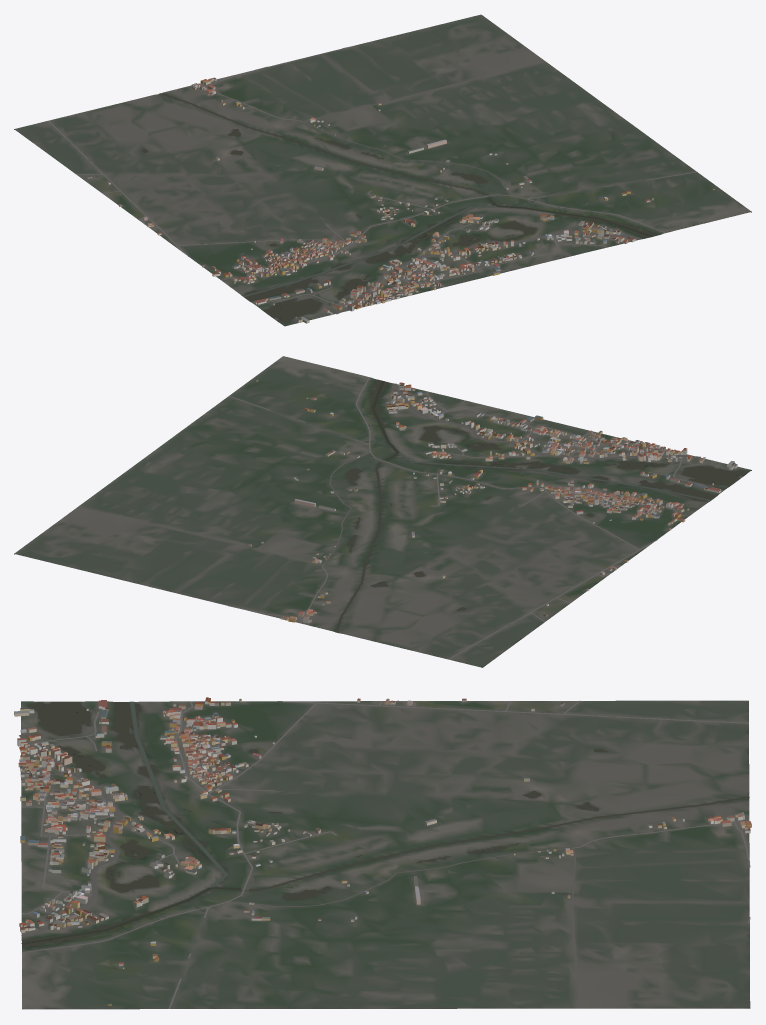
3 views of the same model, one above another, from view 1: azimuth 30°, elevation 25°; view 2: azimuth 150°, elevation 25°; view 3: azimuth 270°, elevation 25° (orthographic). The views are drawn at different scales.
Visible parts, largest first — view 1: ground, buildings, water, roads; view 2: ground, buildings, water, roads; view 3: ground, buildings, water, roads.
Part boxes in pixels (x1,y1,x2,y2): ground: [14, 14, 751, 326]; buildings: [87, 77, 714, 323]; water: [141, 93, 657, 323]; roads: [48, 46, 696, 314]; ground: [14, 356, 751, 667]; buildings: [248, 379, 737, 623]; water: [335, 379, 744, 632]; roads: [77, 377, 707, 659]; ground: [21, 700, 750, 1009]; buildings: [14, 697, 751, 1005]; water: [21, 701, 749, 947]; roads: [19, 700, 750, 1008].
Bounding box in the file's own units: 1410 × 21.06 × 1421.
